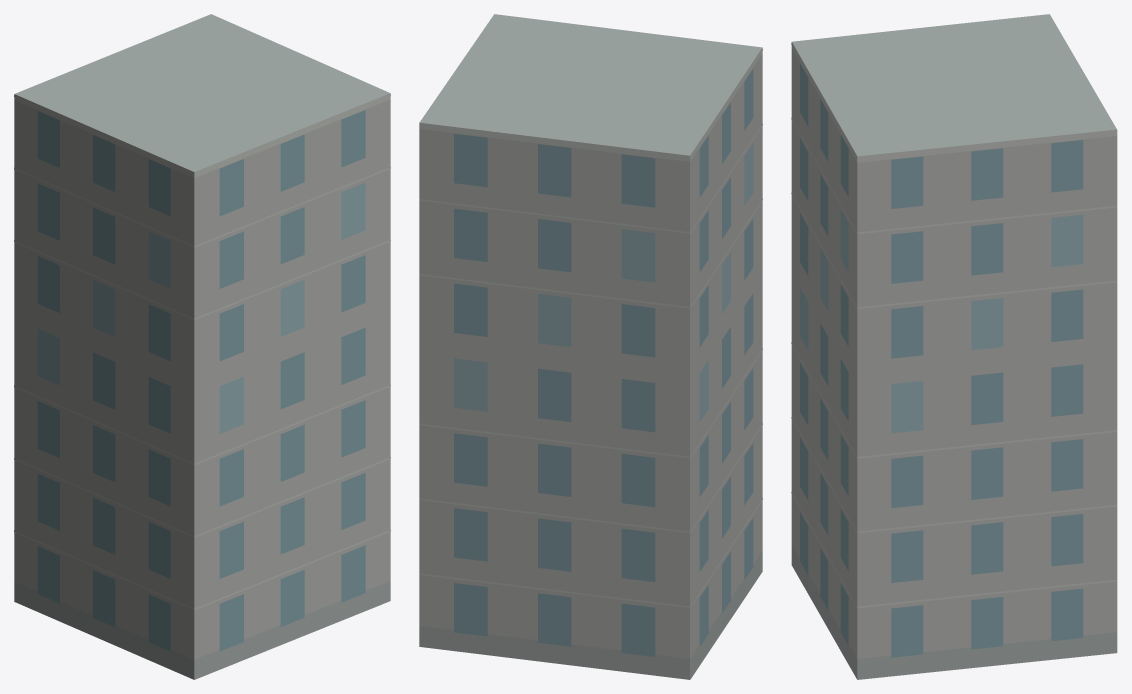
File: survey-upis-32823588.glb
3 views of the same model, side by side, from view 1: azimuth 30°, elevation 25°; view 2: azimuth 150°, elevation 25°; view 3: azimuth 270°, elevation 25° (orthographic). The views are drawn at different scales.
Parts seen in each view (by area): view 1: survey-upis-32823588.tmp; view 2: survey-upis-32823588.tmp; view 3: survey-upis-32823588.tmp.
Part boxes in pixels (bbox=[...]): survey-upis-32823588.tmp: bbox=[14, 14, 390, 679]; survey-upis-32823588.tmp: bbox=[419, 14, 762, 679]; survey-upis-32823588.tmp: bbox=[791, 14, 1117, 679].
Bounding box in the file's own units: 11.76 × 20.12 × 11.36.
